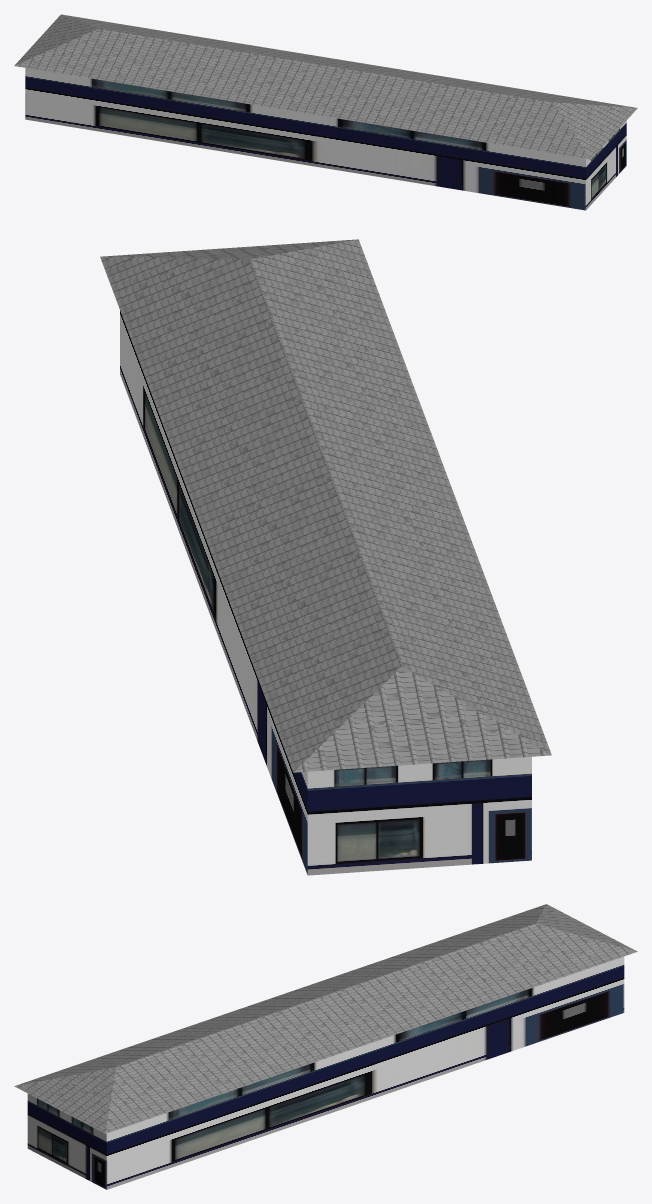
3 views of the same model, one above another, from view 1: azimuth 30°, elevation 25°; view 2: azimuth 150°, elevation 25°; view 3: azimuth 270°, elevation 25° (orthographic). The views are drawn at different scales.
Parts seen in each view (by area): view 1: CityEngineMaterial_4_m, CityEngineMaterial_2_m; view 2: CityEngineMaterial_4_m, CityEngineMaterial_2_m; view 3: CityEngineMaterial_4_m, CityEngineMaterial_2_m.
Boxes of the visible parts, x1,y1,x2,y2 form: CityEngineMaterial_4_m: [14, 14, 637, 159]; CityEngineMaterial_2_m: [25, 68, 626, 210]; CityEngineMaterial_4_m: [100, 239, 551, 772]; CityEngineMaterial_2_m: [120, 310, 531, 875]; CityEngineMaterial_4_m: [14, 904, 637, 1133]; CityEngineMaterial_2_m: [27, 956, 624, 1189].
Size of the model in its own units: 53 by 9.21 by 60.79.
